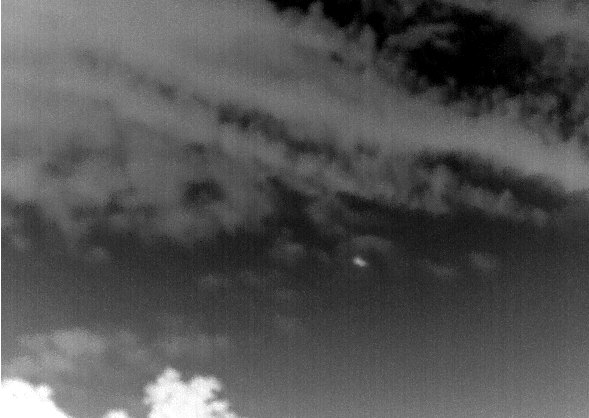dim target: (353, 256, 368, 268)
